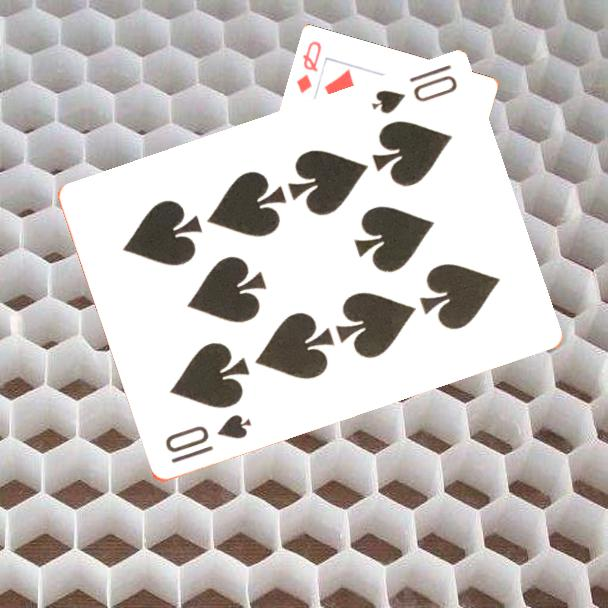d12: (293, 38, 325, 97)
s10: (367, 61, 460, 118), (161, 411, 254, 467)
